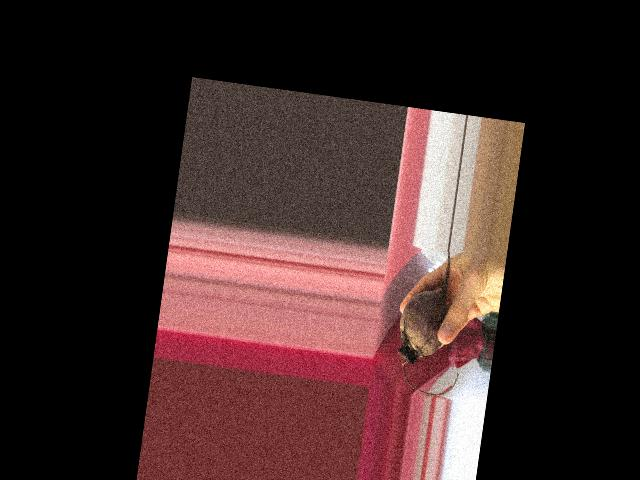beet: (391, 245, 475, 399)
